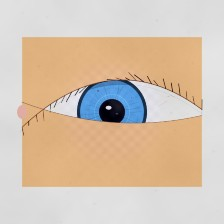pinguecula_lesion: (139, 99, 190, 140)
